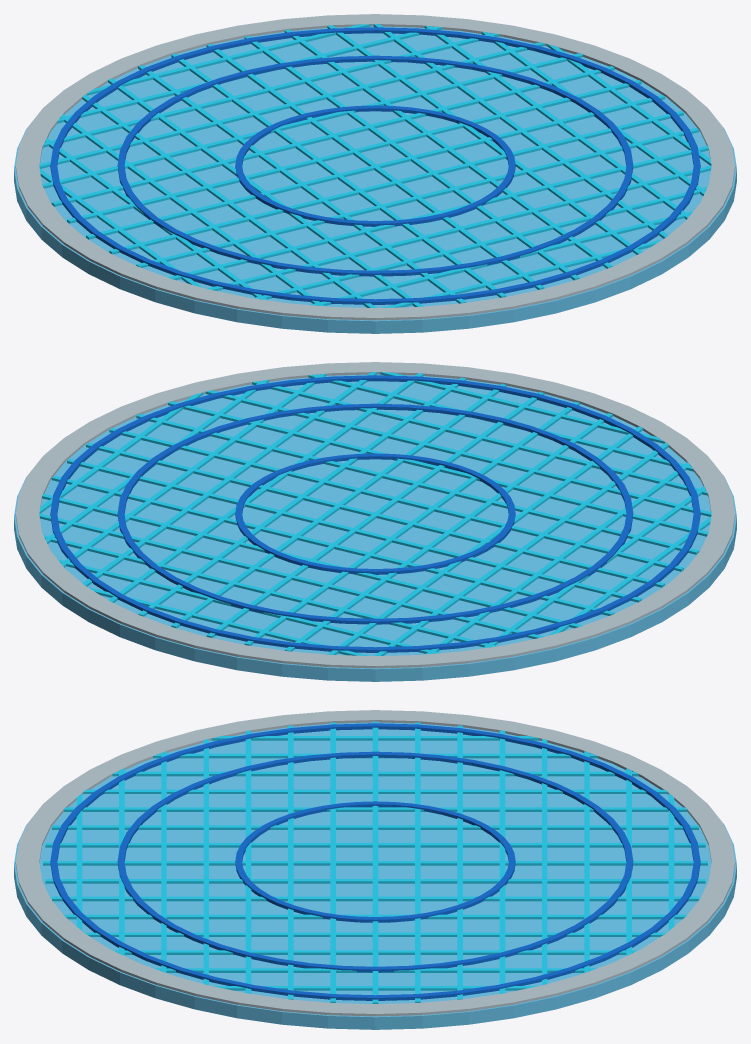
File: 05_L72_PrecisionSiliconWafer.fbx
3 views of the same model, one above another, from view 1: azimuth 30°, elevation 25°; view 2: azimuth 150°, elevation 25°; view 3: azimuth 270°, elevation 25° (orthographic).
Visible parts, largest first — view 1: PrecisionSiliconWafer; view 2: PrecisionSiliconWafer; view 3: PrecisionSiliconWafer.
Part boxes in pixels (x1,y1,x2,y2): PrecisionSiliconWafer: [14, 14, 736, 333]; PrecisionSiliconWafer: [14, 362, 736, 681]; PrecisionSiliconWafer: [14, 710, 736, 1029].
Size of the model in its own units: 129 by 3.25 by 129.
